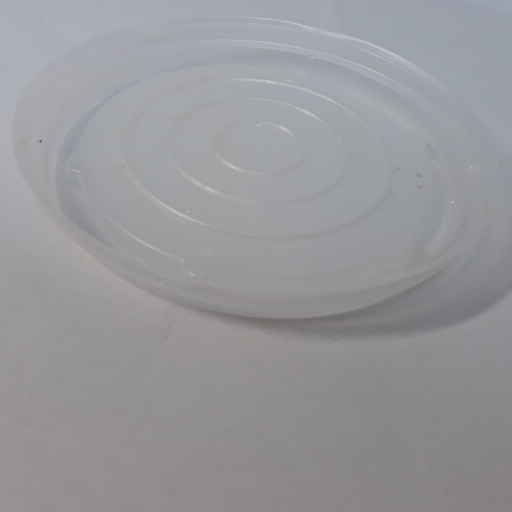Plastic_5: (12, 13, 502, 332)
